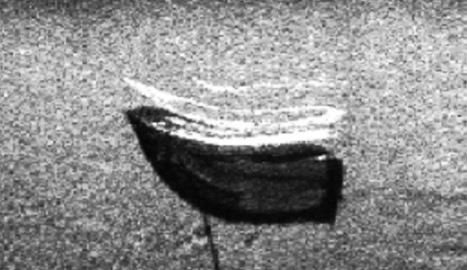ship: (124, 80, 351, 163)
